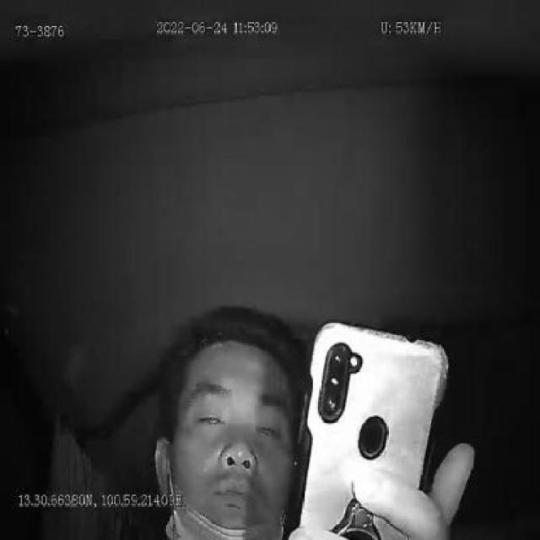phone: (285, 318, 451, 540)
